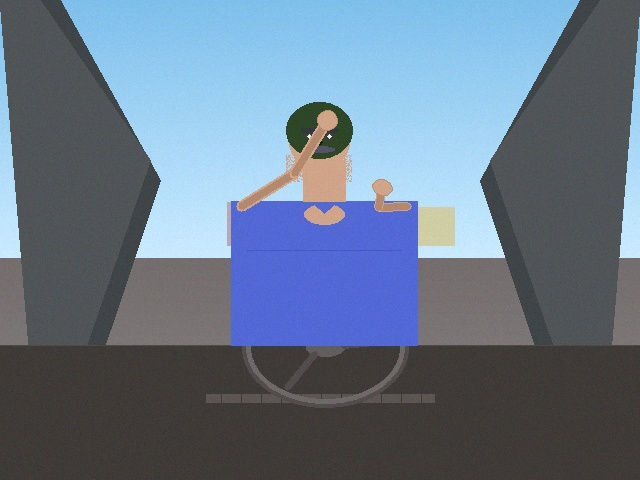hands_off_wheel: (309, 101, 346, 139)
